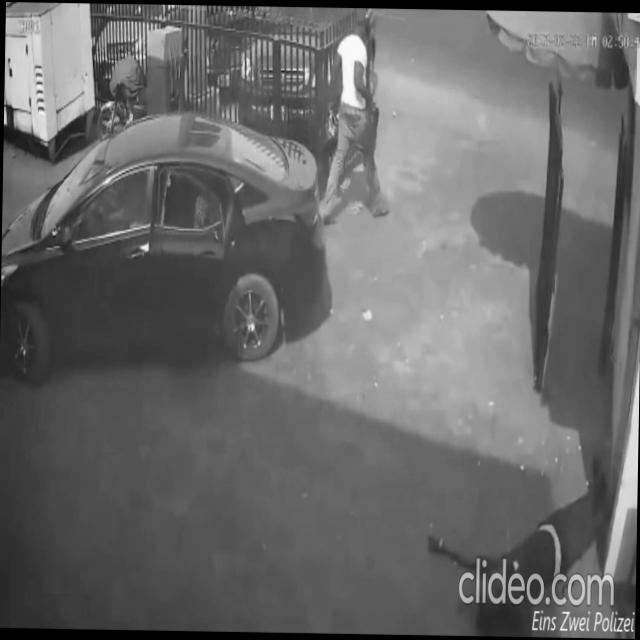gun: (361, 100, 381, 182)
person: (423, 448, 610, 638)
person with a gun: (319, 9, 394, 227)
